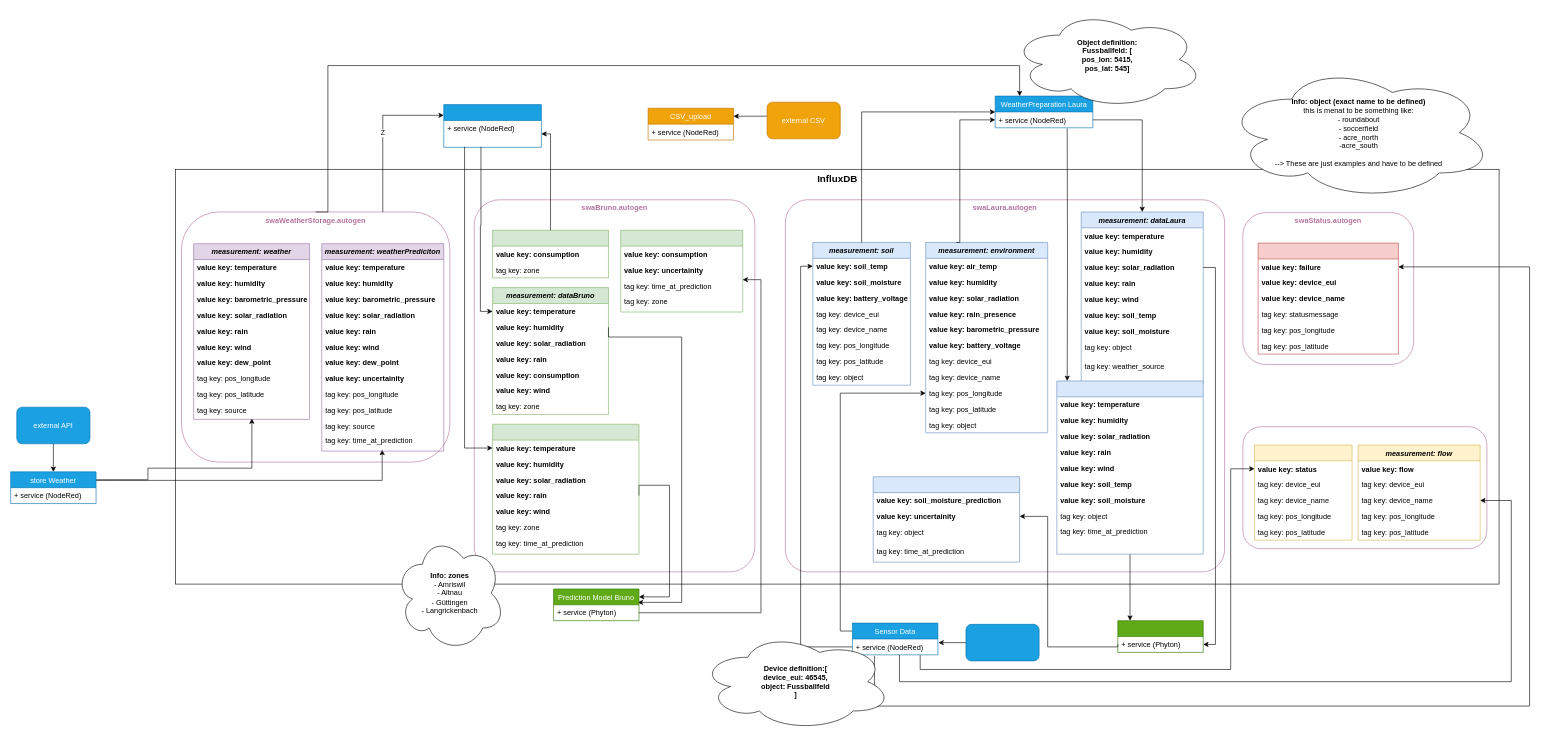
The diagram is 1545 pixels wide and 741 high, and some of its shapes have lost their labels. The shapes that lost their labels are listed below. From the top down, each one's box as (x1, y1, x2, y2) in pixels, then its label:
(443, 104, 541, 147): WeatherPreparation Bruno
(492, 230, 608, 278): measurement: dataREA
(620, 230, 743, 312): measurement: zonePrediction
(1258, 242, 1398, 354): measurement: statusAndError
(1056, 380, 1203, 554): measurement: dataPredictionLaura
(492, 424, 639, 554): measurement: dataPredictionBruno
(1254, 444, 1352, 540): measurement: storz
(1242, 426, 1487, 549): NOT IN USE YET?
(873, 476, 1020, 562): measurement: objectPrediction
(965, 624, 1039, 661): element-iot
(1117, 620, 1203, 652): Prediction Model Laura
